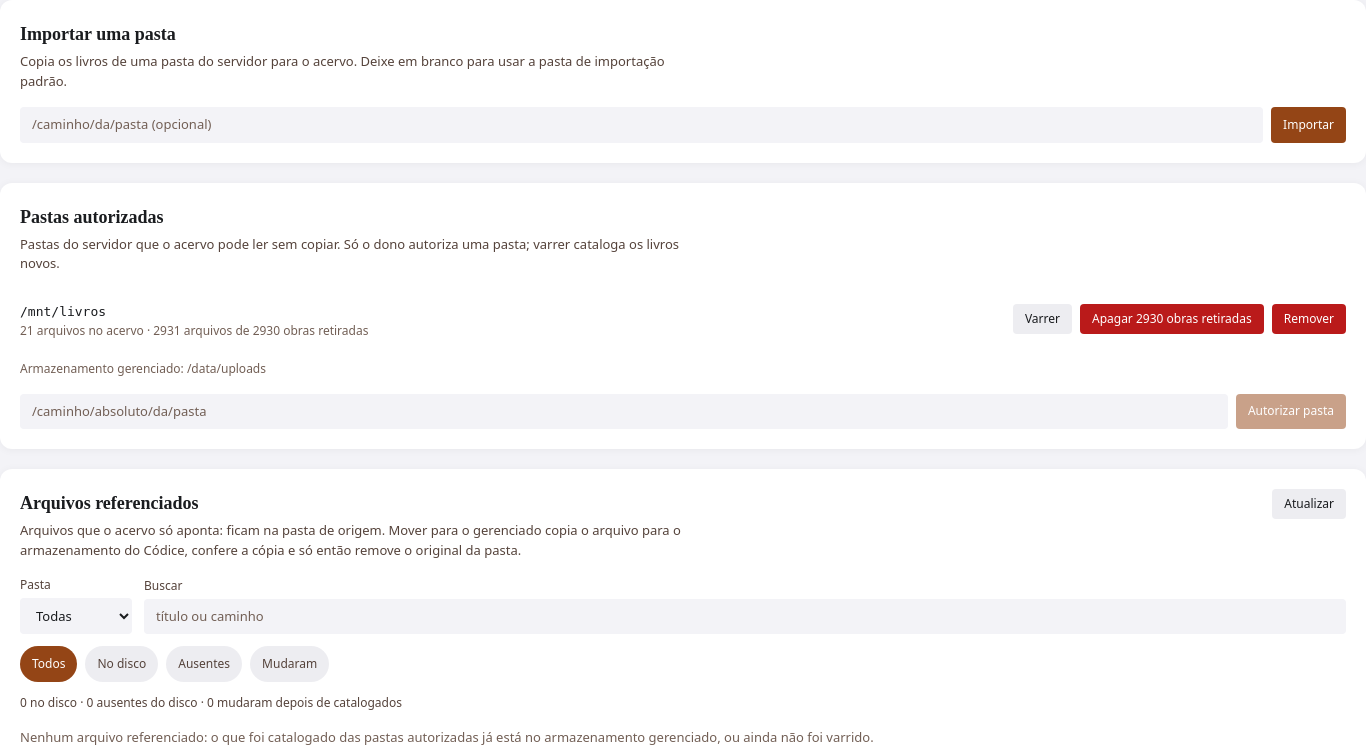
Test case: StorageTab: the retired works of a folder (#230) › says what went wrong and asks the lists again, since what was deleted before stays deleted
Click the button "Apagar 2930 obras retiradas" at (1172, 318), box [1080,304,1264,334]
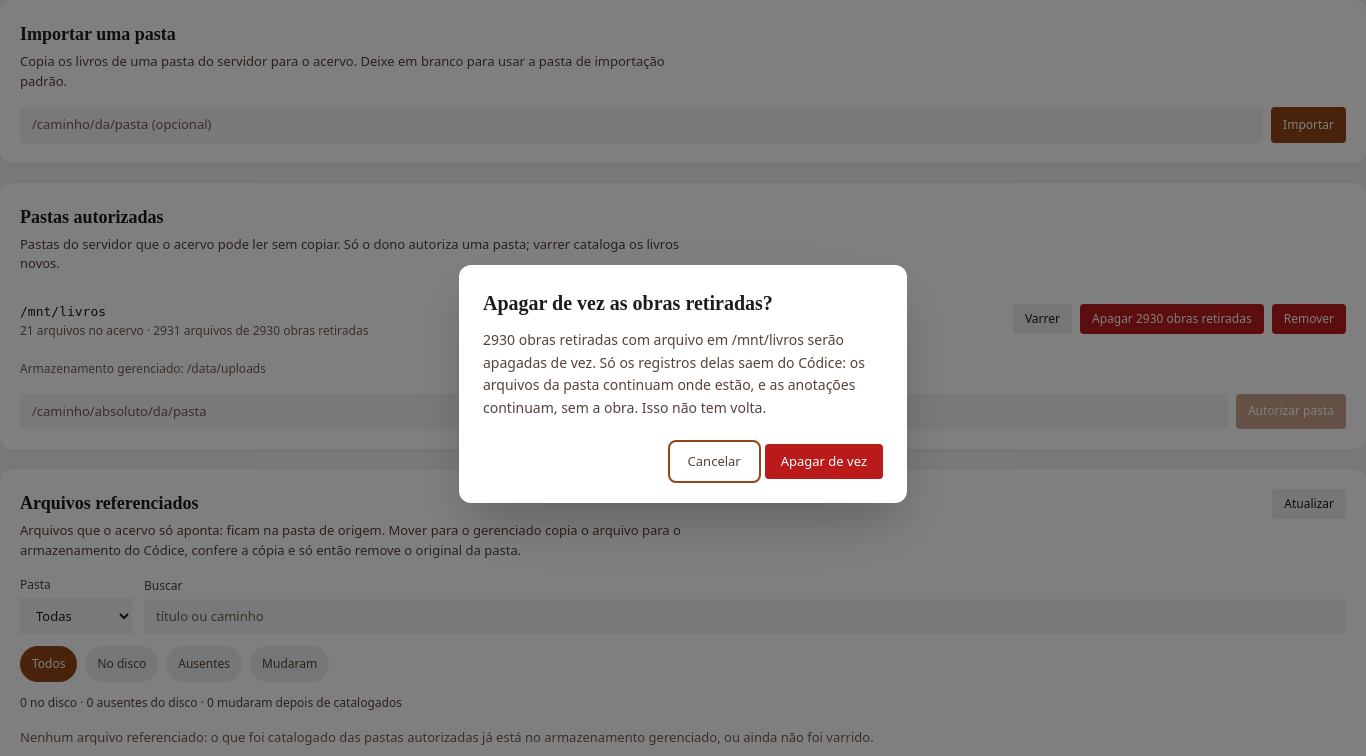
Click the button "Apagar de vez" at (824, 462), box [765,444,883,479]
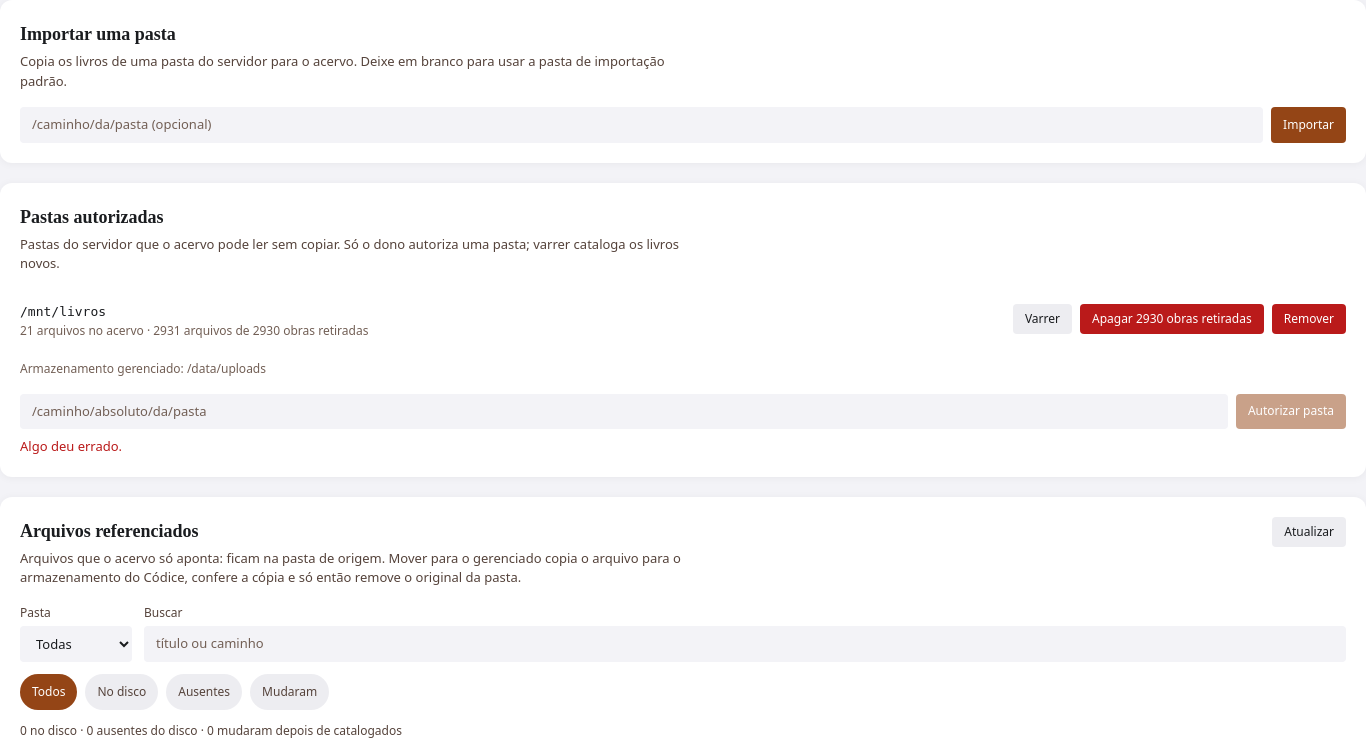
expect the message "Algo deu errado." is shown: met, box [20,437,122,455]
